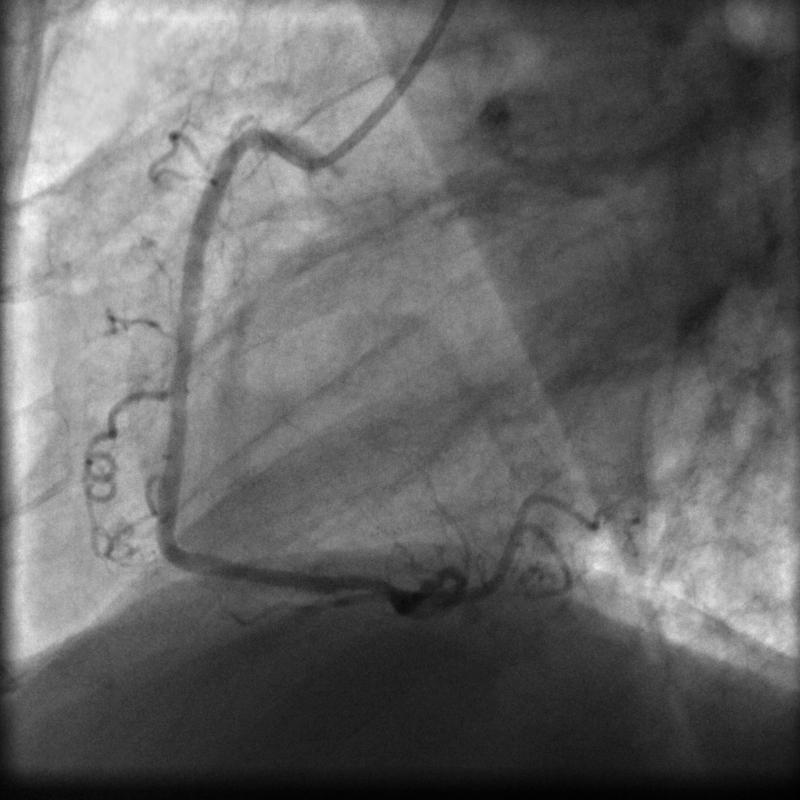Stenosis: (340, 562, 392, 612)
